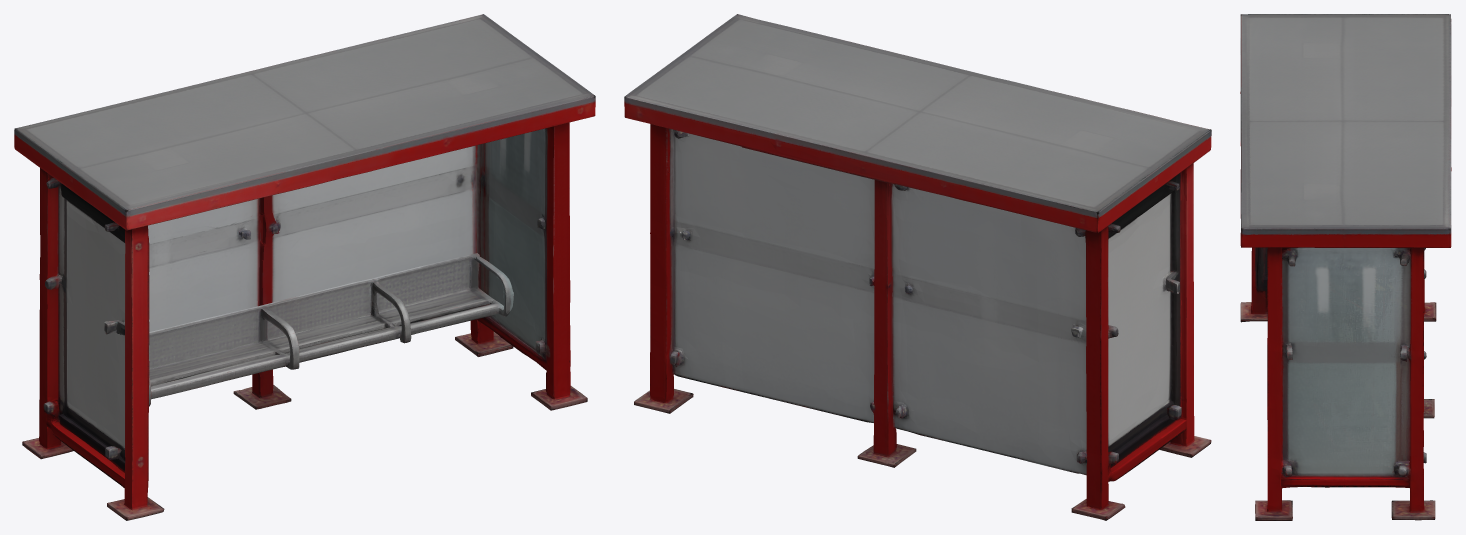
Rendered from prop.shelter_london.glb.
3 views of the same model, side by side, from view 1: azimuth 30°, elevation 25°; view 2: azimuth 150°, elevation 25°; view 3: azimuth 270°, elevation 25° (orthographic). The views are drawn at different scales.
Visible parts, largest first — view 1: geometry_0; view 2: geometry_0; view 3: geometry_0.
Part boxes in pixels (x1=…): geometry_0: x1=14, y1=14, x2=595, y2=520; geometry_0: x1=624, y1=14, x2=1211, y2=520; geometry_0: x1=1240, y1=14, x2=1451, y2=520.
Bounding box in the file's own units: 1 × 0.635 × 0.4152.
1 material, 1 textured.
